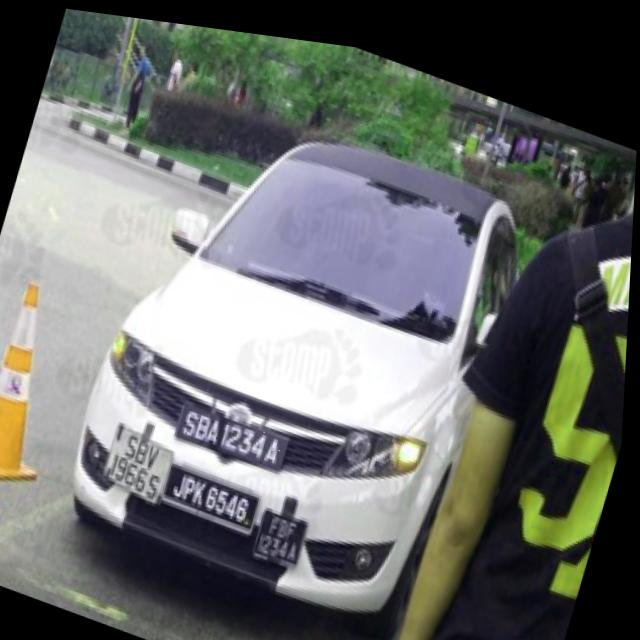license_plate: (179, 396, 295, 468)
